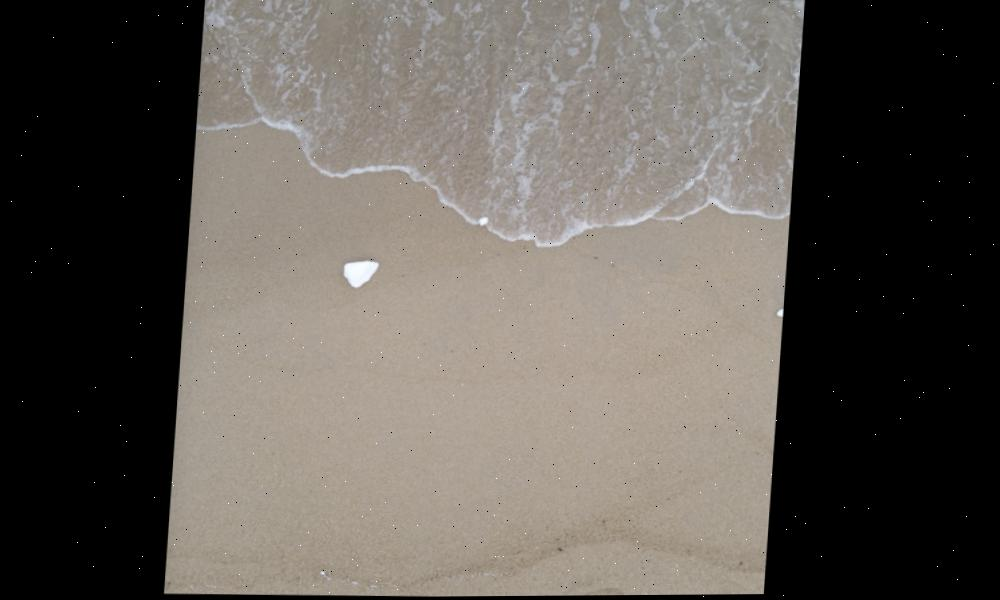styrofoam: (343, 258, 387, 287), (481, 215, 492, 225), (778, 307, 787, 319)
